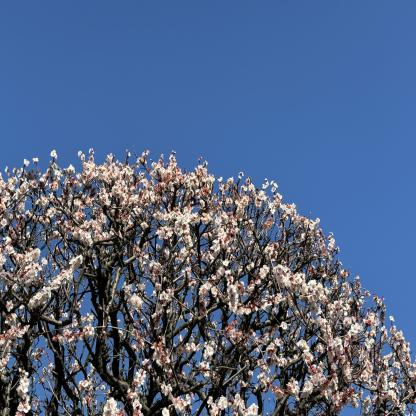Ume: (0, 144, 416, 416)
